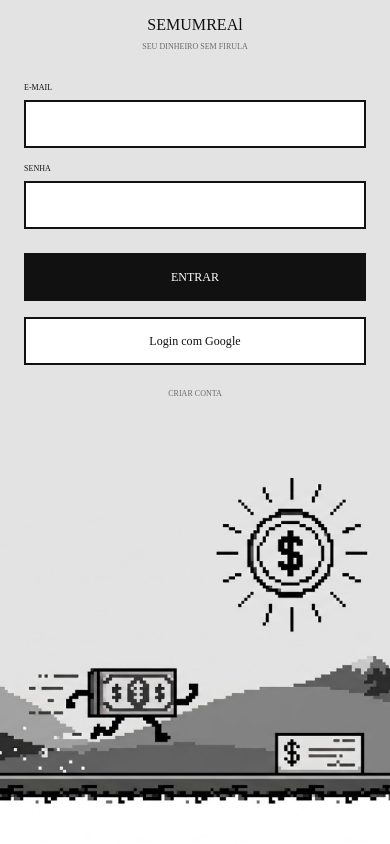
<LoginScreen /> › mostra a mensagem da API quando o login falha
The image size is (390, 844).
Step 1. Type "ana@exemplo.com" into the field named "E-MAIL" → (195,124), box x1=24 y1=100 x2=366 y2=148
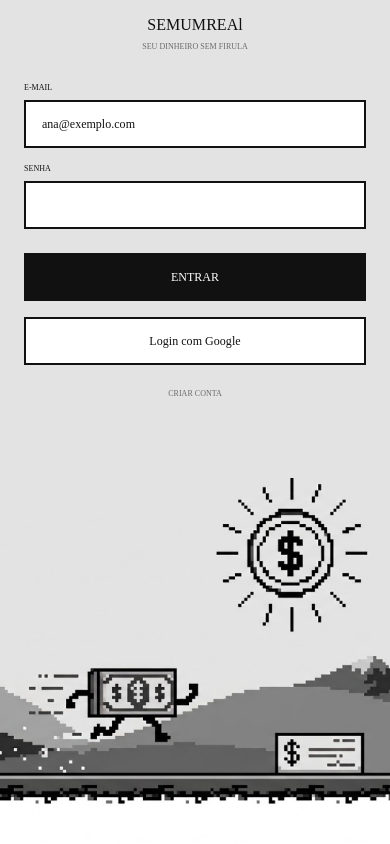
Step 2. Type "12345678" into the password field named "SENHA" → (195,205), box x1=24 y1=181 x2=366 y2=229
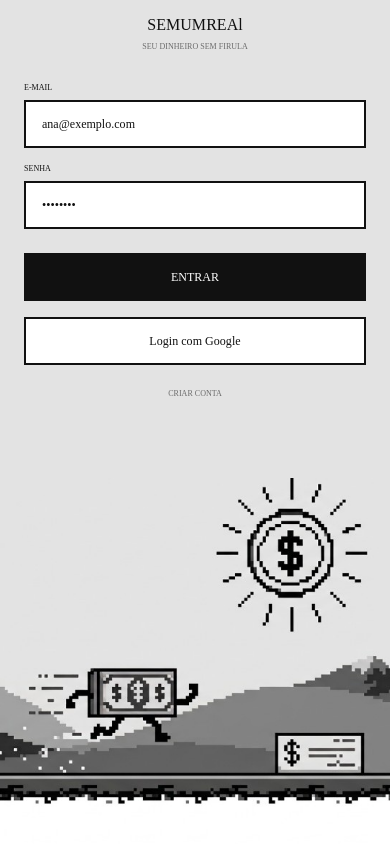
Step 3. Click the button "ENTRAR" → (195,277), box x1=24 y1=253 x2=366 y2=301
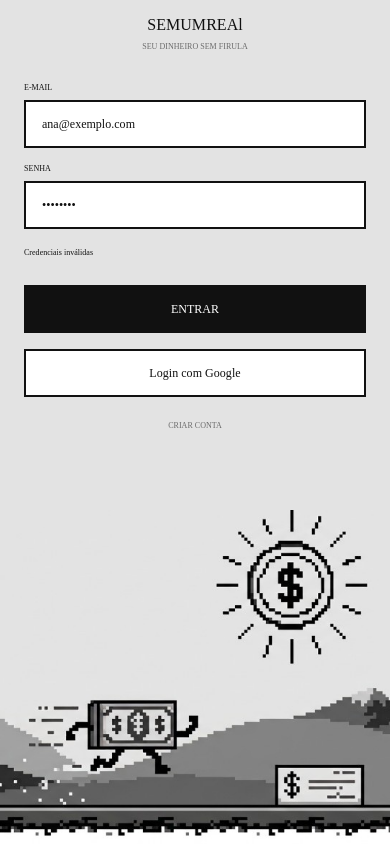
Now the text "Credenciais inválidas" is shown, box x1=24 y1=248 x2=93 y2=257
